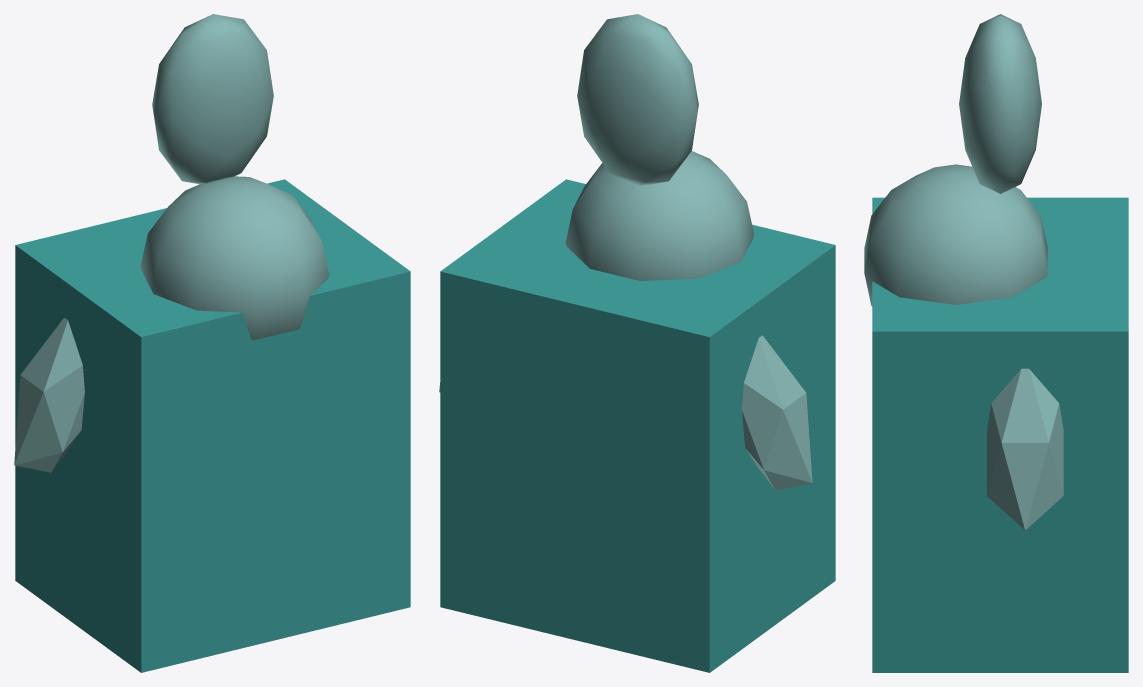
File: crystal_elite.glb
3 renders of one model, left to right at view 1: azimuth 30°, elevation 25°; view 2: azimuth 150°, elevation 25°; view 3: azimuth 270°, elevation 25°, orthographic.
Visible parts, largest first — view 1: CoreBody, Head, ELITE_crystal_crest, MOTIF_crystal_prism_-1; view 2: CoreBody, Head, ELITE_crystal_crest, MOTIF_crystal_prism_-1; view 3: CoreBody, Head, ELITE_crystal_crest, MOTIF_crystal_prism_1.
Boxes of the visible parts, bbox=[...] form: CoreBody: bbox=[15, 179, 410, 672]; Head: bbox=[140, 176, 329, 340]; ELITE_crystal_crest: bbox=[152, 14, 273, 184]; MOTIF_crystal_prism_-1: bbox=[14, 317, 84, 472]; CoreBody: bbox=[440, 179, 835, 672]; Head: bbox=[565, 151, 753, 280]; ELITE_crystal_crest: bbox=[577, 14, 698, 185]; MOTIF_crystal_prism_-1: bbox=[742, 335, 812, 490]; CoreBody: bbox=[872, 197, 1128, 672]; Head: bbox=[864, 164, 1047, 306]; ELITE_crystal_crest: bbox=[959, 14, 1041, 193]; MOTIF_crystal_prism_1: bbox=[987, 368, 1063, 530].
Size of the model in its own units: 1.77 by 2.63 by 1.07.
